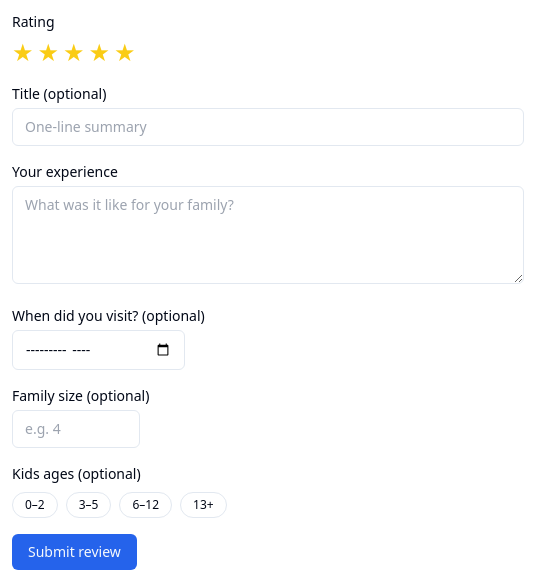
Test: ReviewForm › disables submit button while loading
Type "Great!" into the text box with placeholder "What was it like for your family?".
click(268, 235); type("Great!")  # box [12,186,524,284]
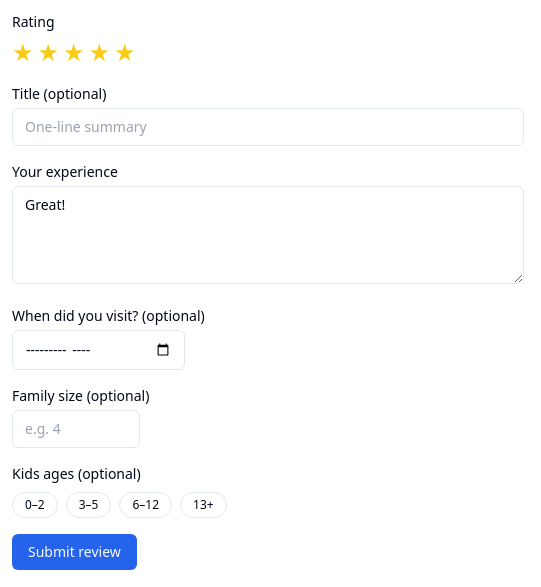
Click the button "Submit review".
click(74, 552)  # box [12,534,137,570]
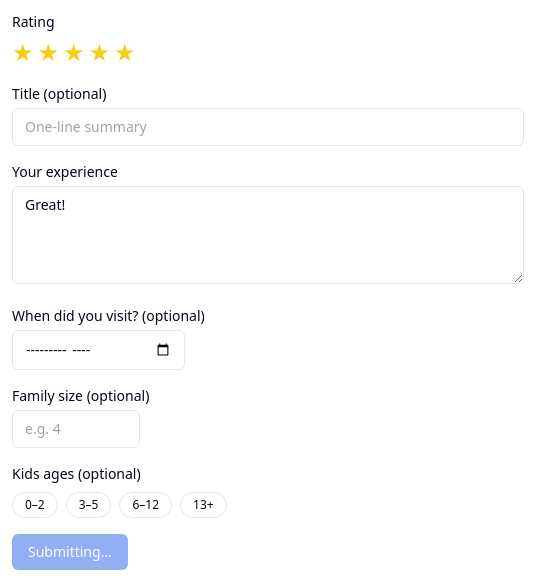
Result: the button "Submitting…" is disabled at [12,534,128,570]
